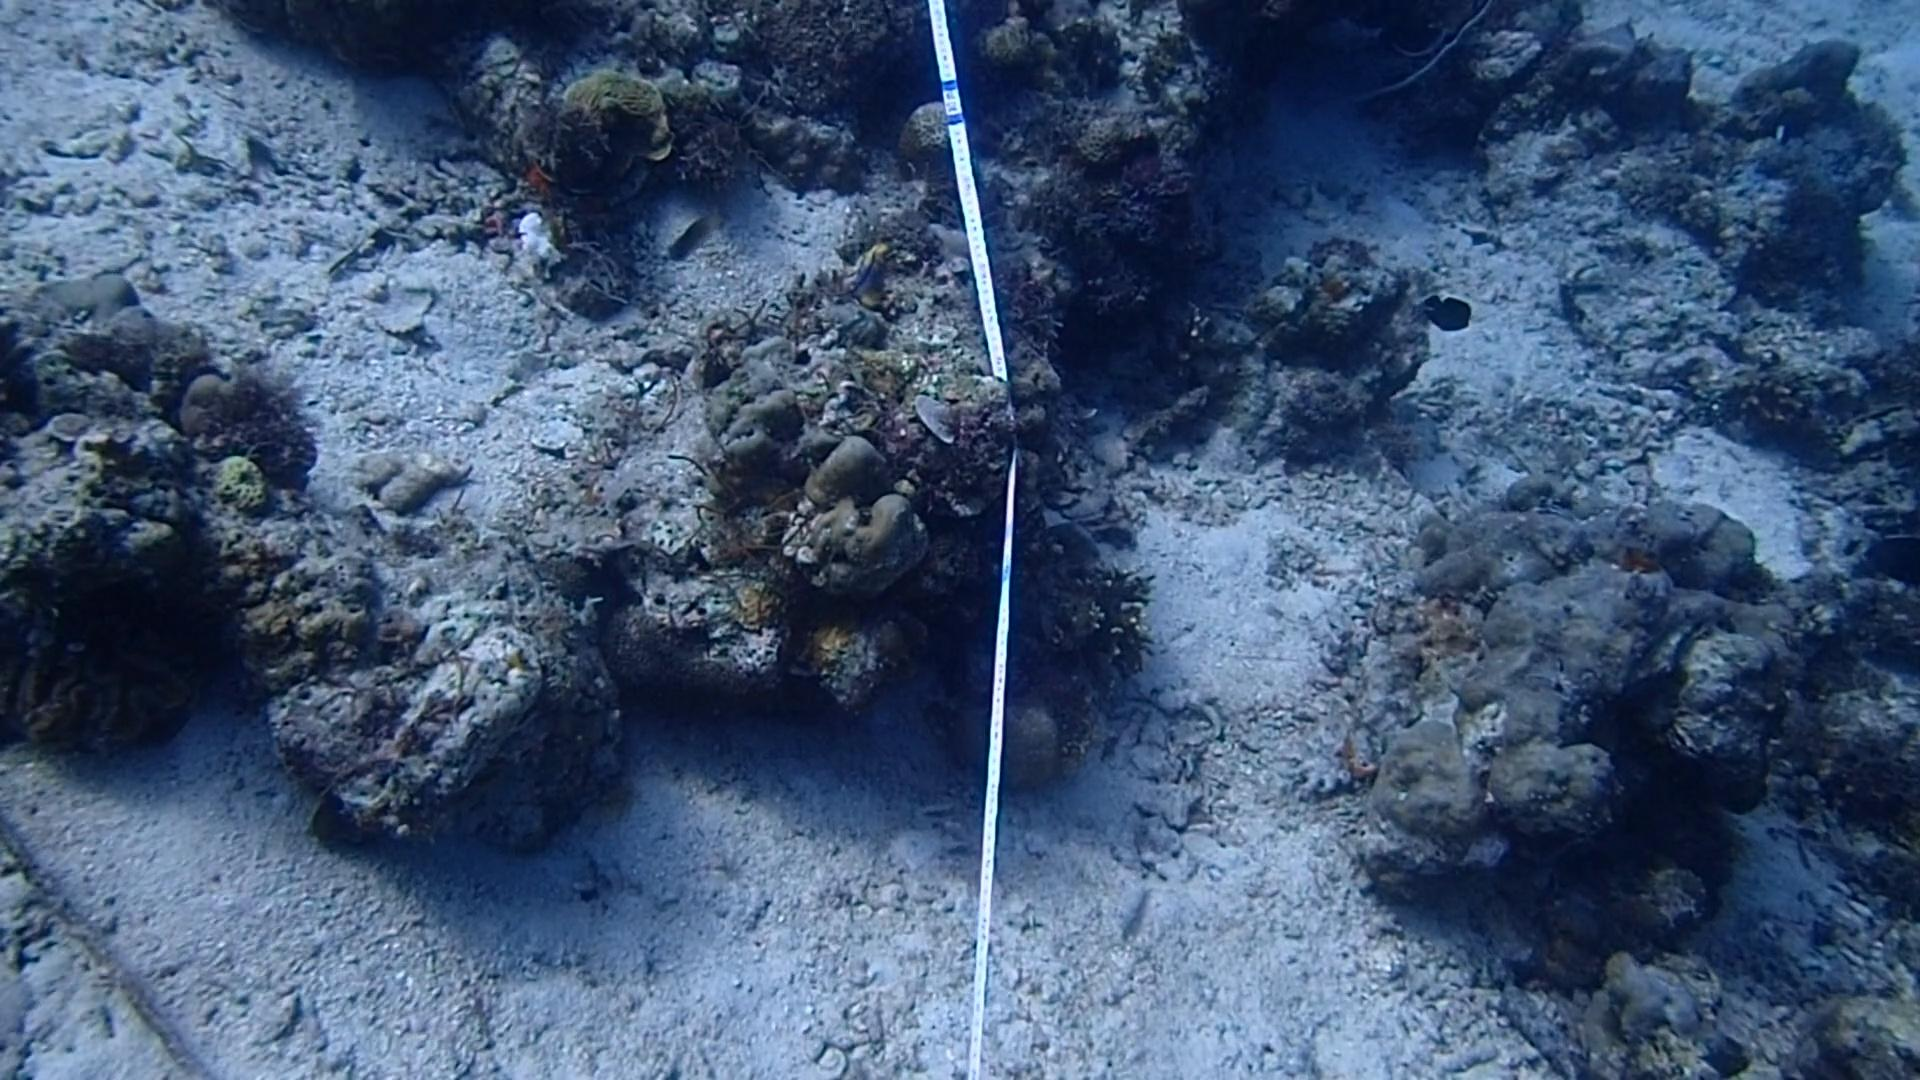Dark Fish: (1411, 285, 1481, 340), (1861, 527, 1920, 588)
Light Fish: (661, 215, 720, 272)
